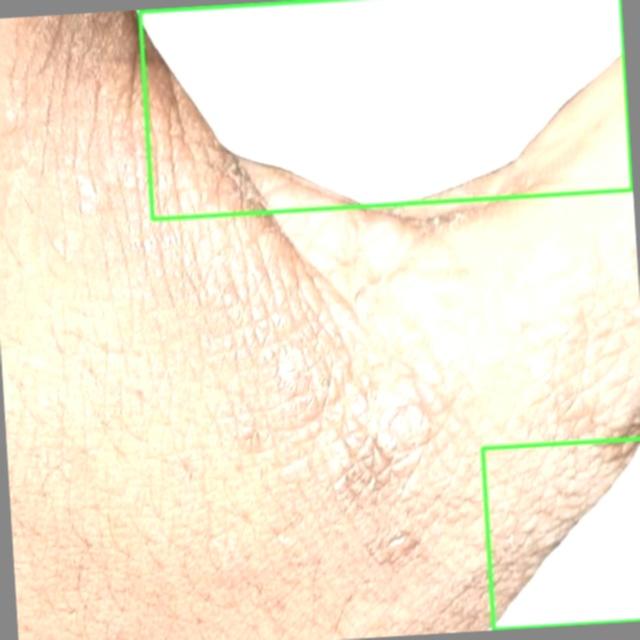Scabies: (138, 0, 632, 218), (482, 439, 639, 629)
